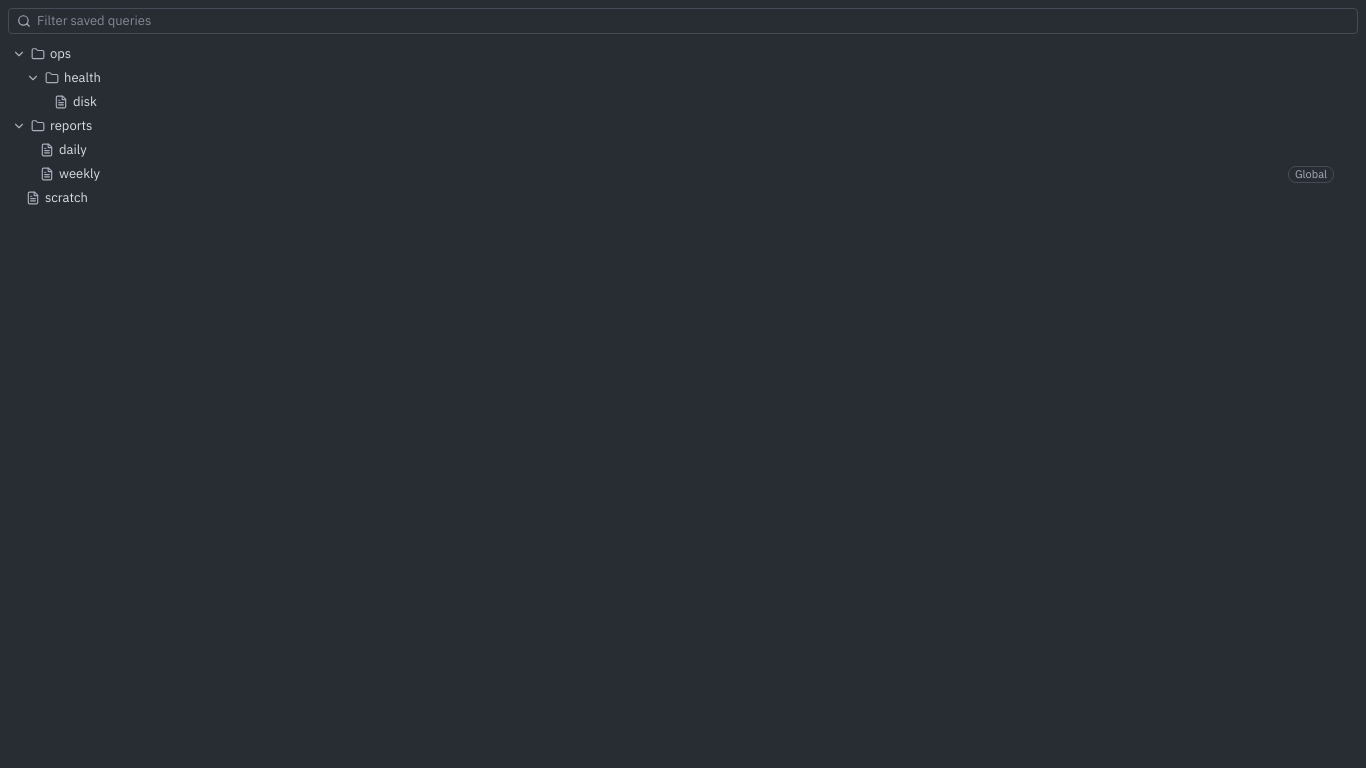
Test: QueryLibrary › menu › Delete… can be cancelled
The width and height of the screenshot is (1366, 768).
Expected: the text "scratch" is shown, [45,189,88,207]
Right-click the list item "scratch" at (66, 197), box [0,186,1365,210]
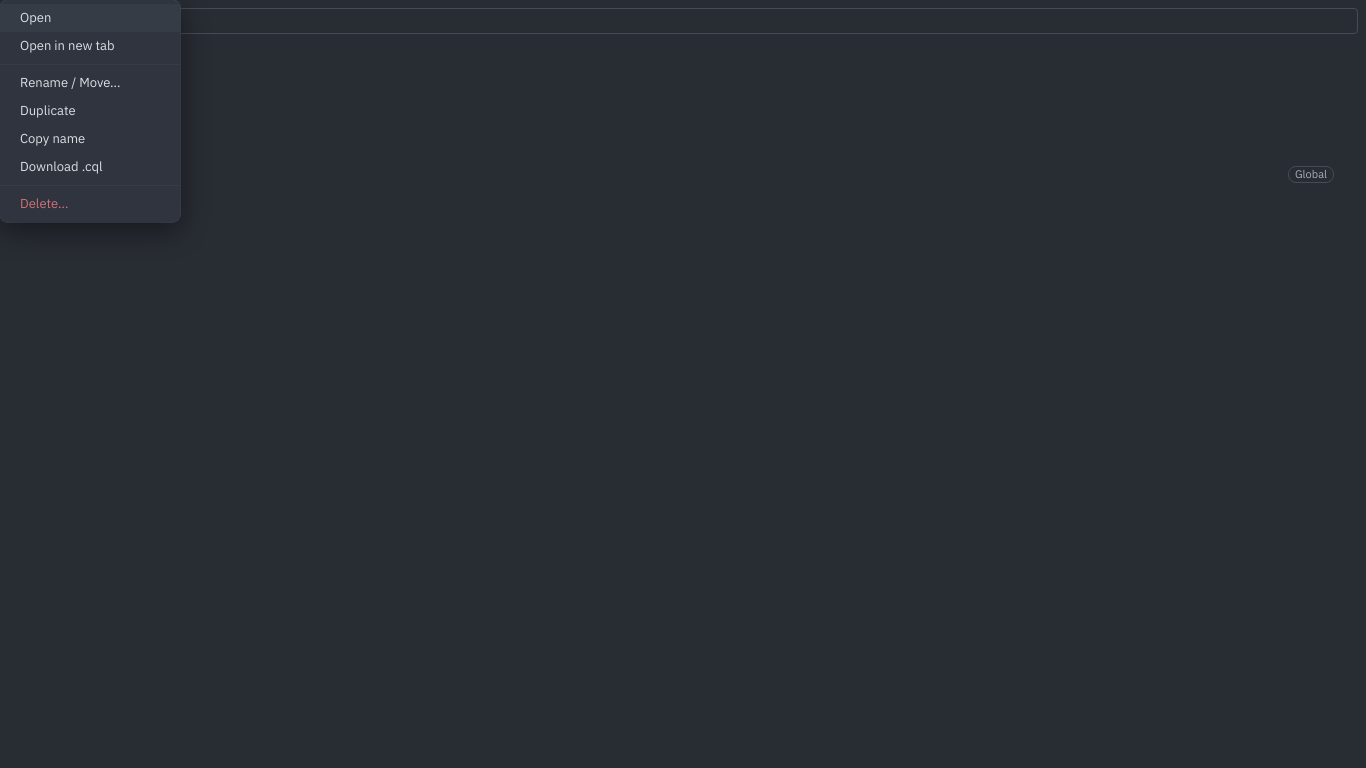
Click the menu item "Delete…" at (90, 204), box [0,190,180,218]
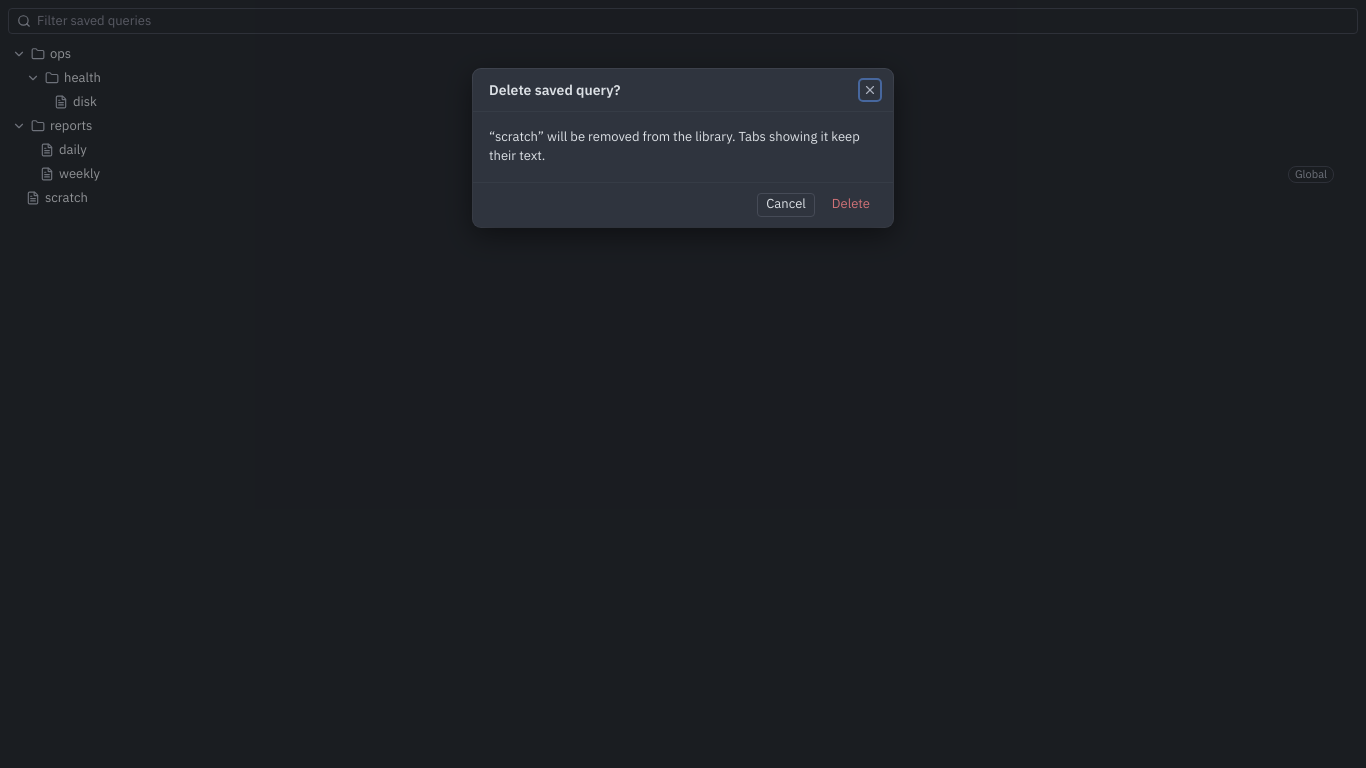
Click the button "Cancel" at (786, 205), box [757,193,815,217]
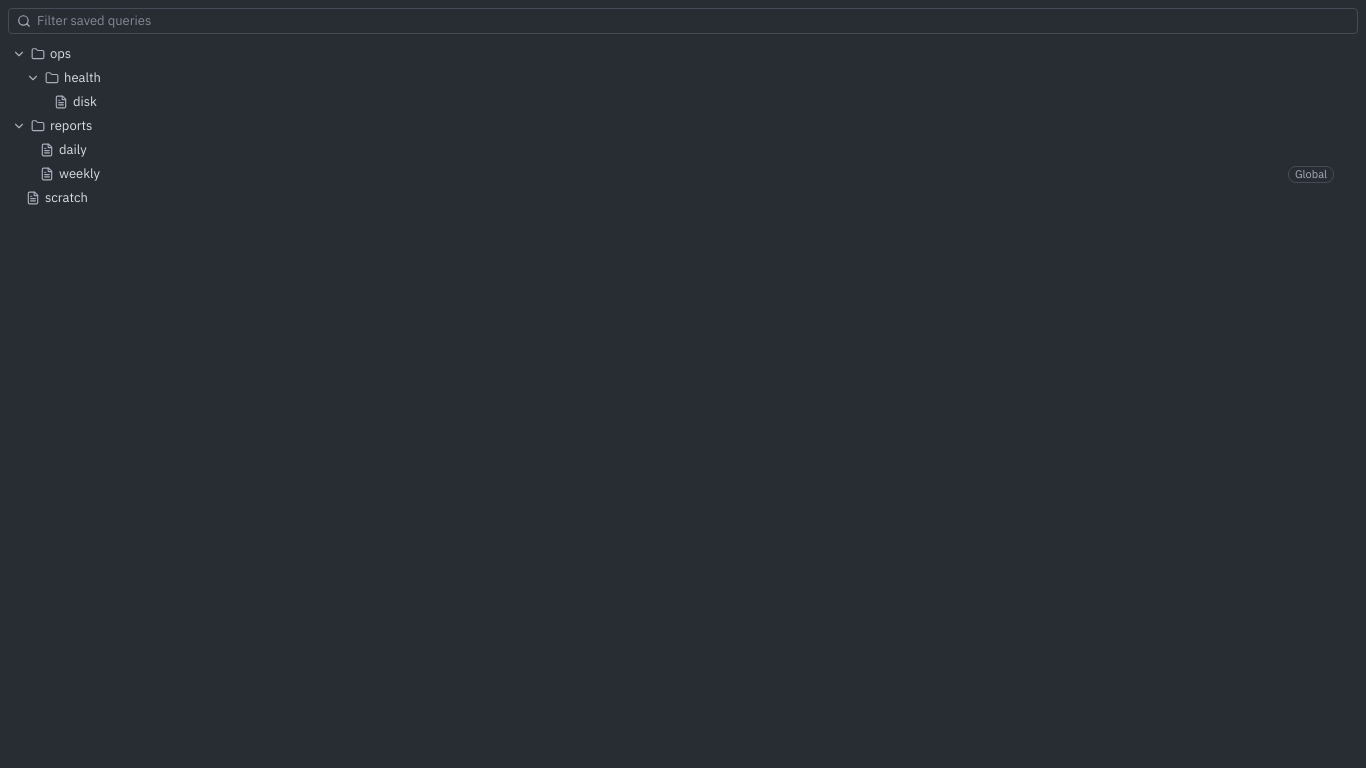
Now the dialog is gone
